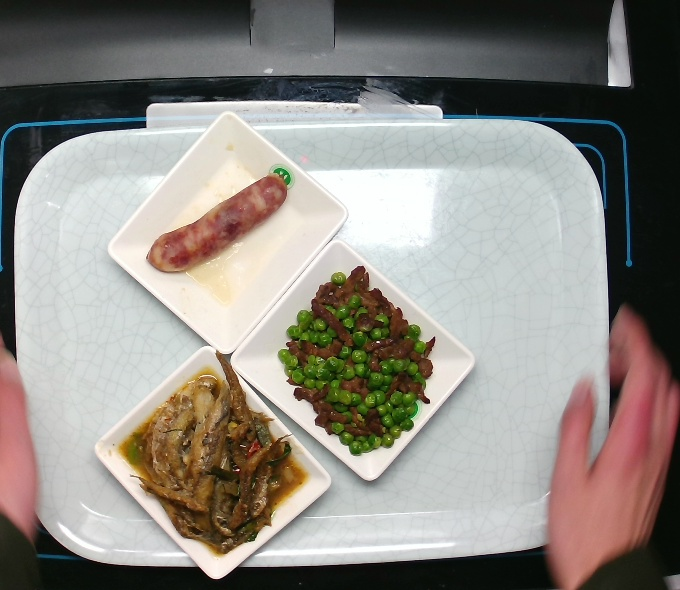wcq-CanDouNiuRou: (276, 252, 447, 461)
wcq-XiangChang: (137, 161, 298, 285)
wcq-XiaoJiYu: (114, 338, 296, 555)
